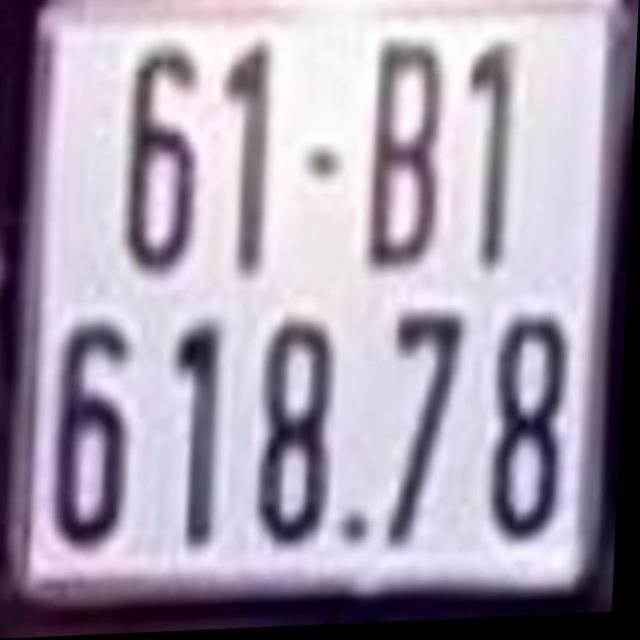1: (218, 40, 277, 280), (461, 39, 521, 274), (175, 322, 229, 546)
6: (55, 317, 140, 546), (129, 36, 205, 280)
7: (391, 314, 469, 549)
8: (263, 318, 338, 547), (495, 318, 565, 545)
B: (368, 35, 443, 267)
